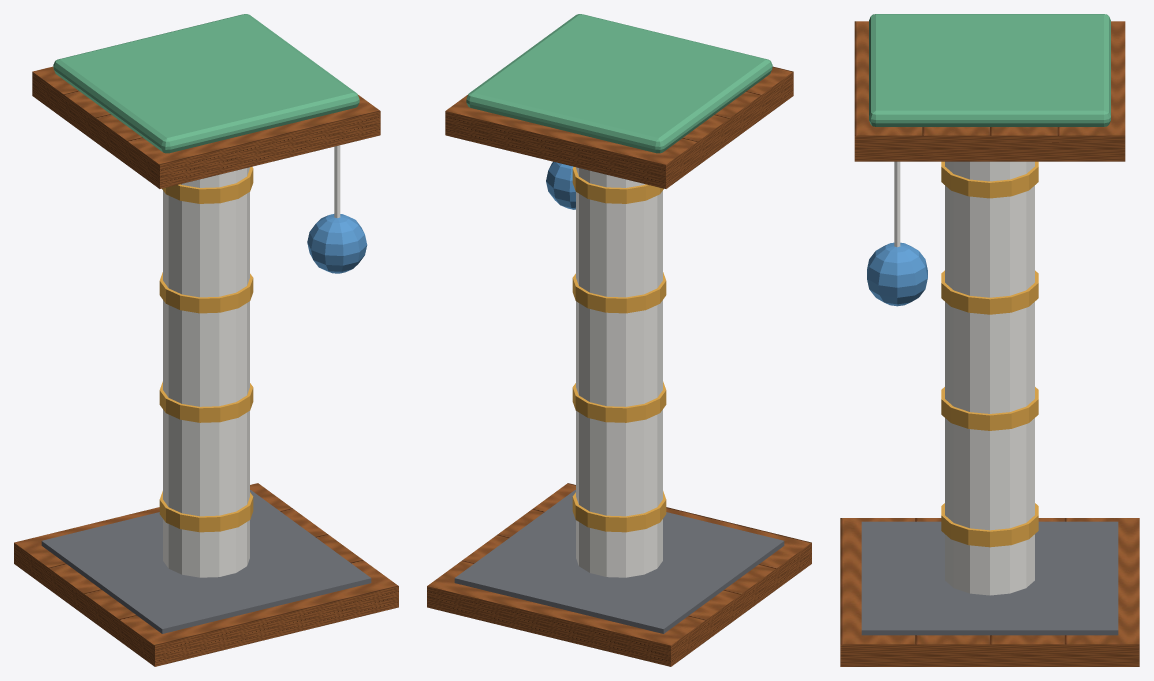
The model's file is boarding-kennels-and-cattery-boarding-kennels-and-catt-f731695e__35549.glb.
The picture shows the model from 3 angles, left to right: view 1: azimuth 30°, elevation 25°; view 2: azimuth 150°, elevation 25°; view 3: azimuth 270°, elevation 25°; orthographic projection. The views are drawn at different scales.
Parts seen in each view (by area): view 1: boarding-kennels-and-cattery-scratching-post; view 2: boarding-kennels-and-cattery-scratching-post; view 3: boarding-kennels-and-cattery-scratching-post.
Part boxes in pixels (x1,y1,x2,y2): boarding-kennels-and-cattery-scratching-post: (14,14,398,666); boarding-kennels-and-cattery-scratching-post: (427,14,811,666); boarding-kennels-and-cattery-scratching-post: (840,14,1139,666).
Bounding box in the file's own units: 0.4201 × 0.838 × 0.4201.
Materials: 6 (1 with a texture image).
